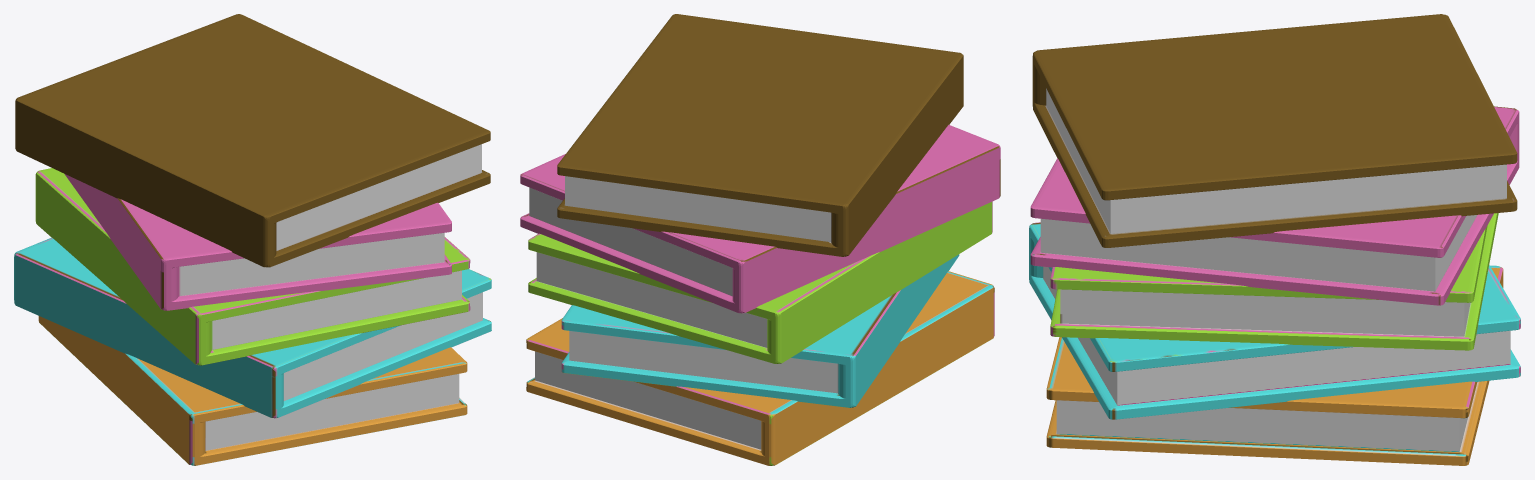
Rendered from books.fbx.
The picture shows the model from 3 angles, left to right: view 1: azimuth 30°, elevation 25°; view 2: azimuth 150°, elevation 25°; view 3: azimuth 270°, elevation 25°; orthographic projection. The views are drawn at different scales.
Parts seen in each view (by area): view 1: book5, book2, book3, book1, book4; view 2: book5, book4, book1, book3, book2; view 3: book5, book4, book2, book1, book3.
Part boxes in pixels (x1,y1,x2,y2): book5: (15, 14, 490, 267); book2: (14, 237, 491, 418); book3: (35, 168, 470, 365); book1: (38, 316, 467, 465); book4: (64, 174, 451, 310); book5: (557, 14, 963, 256); book4: (520, 125, 1000, 313); book1: (526, 271, 994, 465); book3: (528, 201, 992, 363); book2: (561, 254, 959, 407); book5: (1032, 14, 1517, 247); book4: (1030, 106, 1519, 305); book2: (1029, 222, 1520, 419); book1: (1046, 265, 1503, 465); book3: (1050, 213, 1498, 350).
Size of the model in its own units: 127 by 92.49 by 145.
